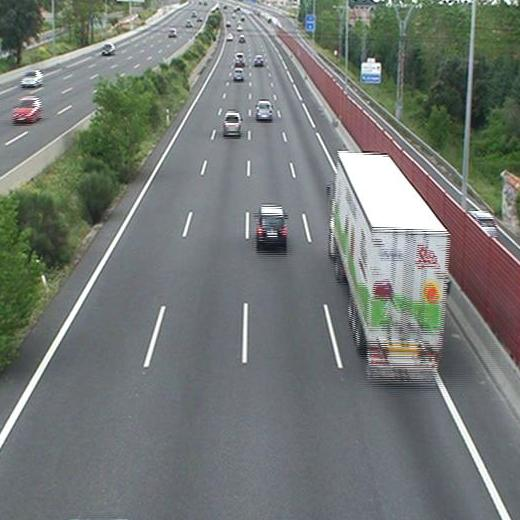car: (257, 206, 287, 246), (223, 112, 242, 136), (255, 101, 273, 121), (234, 53, 246, 65), (234, 69, 245, 80), (253, 55, 263, 66)
truck: (329, 151, 449, 382)
